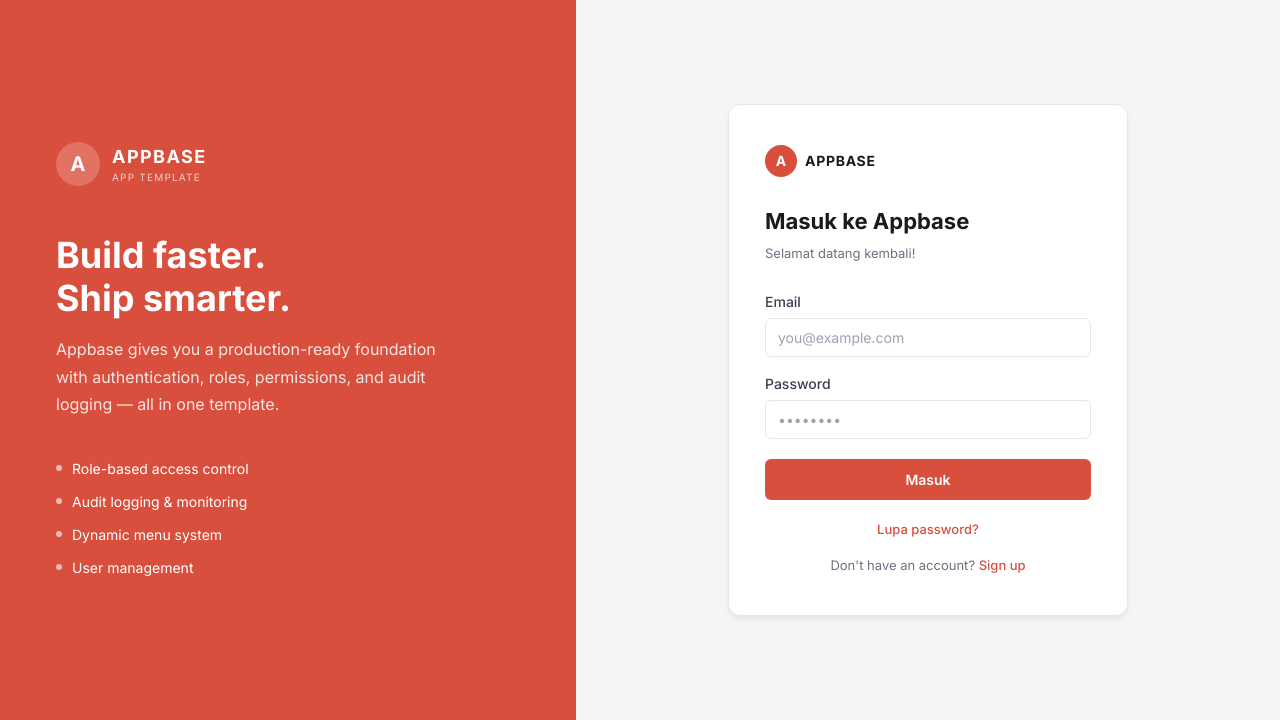
Scenario: LoginPage › shows error on invalid submit (empty fields)
The width and height of the screenshot is (1280, 720).
Click the button "Masuk": x=928, y=480 top-left (765, 459), bottom-right (1091, 500)
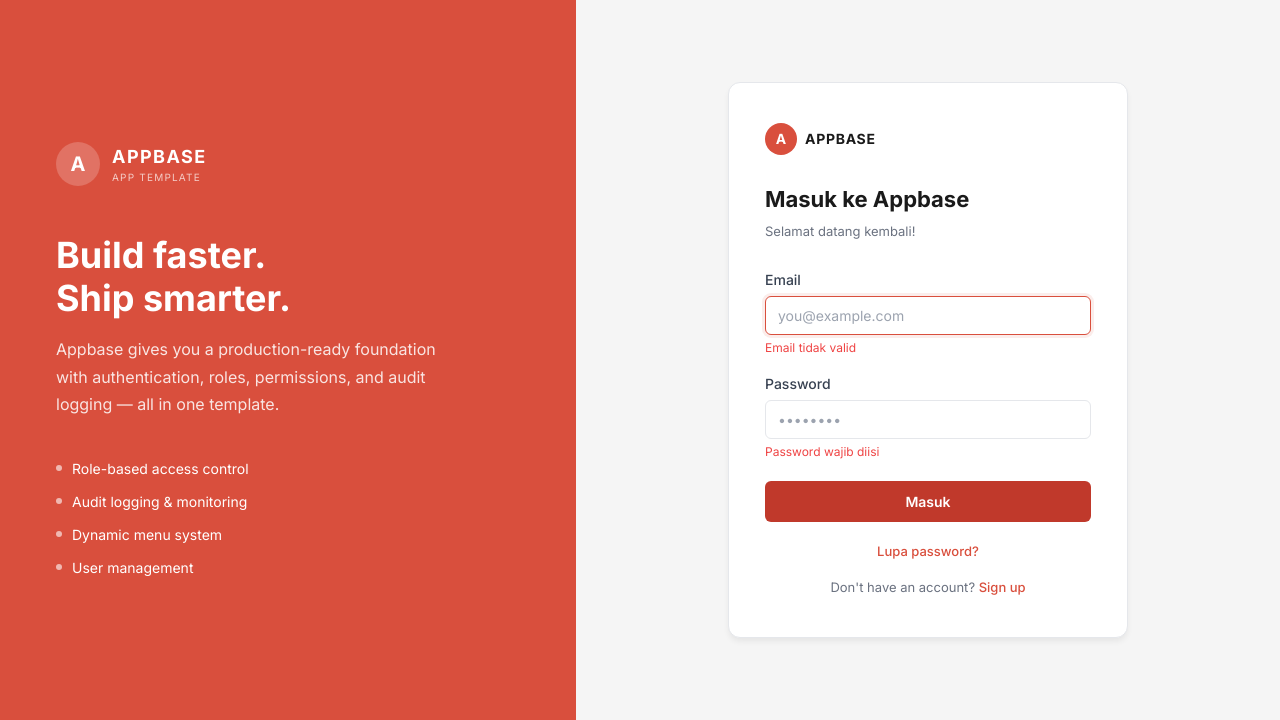
Now the text "Email tidak valid" is shown, box top-left (765, 340), bottom-right (856, 355)
